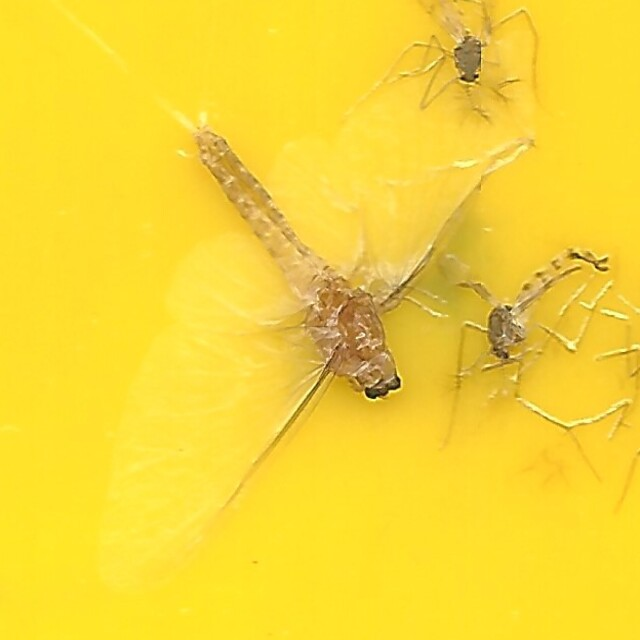Ephemeroptera: (103, 109, 537, 531)
